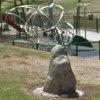Statue: (32, 29, 87, 98)
